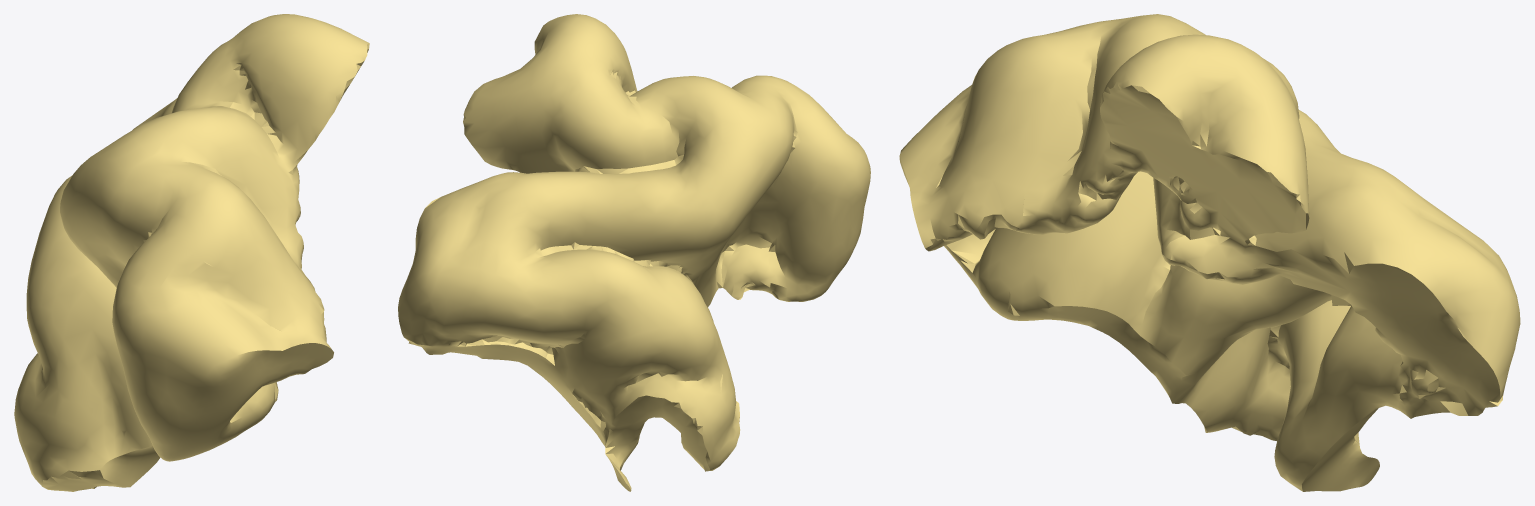
The model's file is fma72671_mm3210m.glb.
3 renders of one model, left to right at view 1: azimuth 30°, elevation 25°; view 2: azimuth 150°, elevation 25°; view 3: azimuth 270°, elevation 25°, orthographic. The views are drawn at different scales.
Visible parts, largest first — view 1: FMA72671_MM3210M; view 2: FMA72671_MM3210M; view 3: FMA72671_MM3210M.
Boxes of the visible parts, x1,y1,x2,y2 form: FMA72671_MM3210M: [14, 14, 369, 491]; FMA72671_MM3210M: [398, 14, 870, 491]; FMA72671_MM3210M: [899, 14, 1520, 491].
Size of the model in its own units: 0.037 by 0.047 by 0.051.
